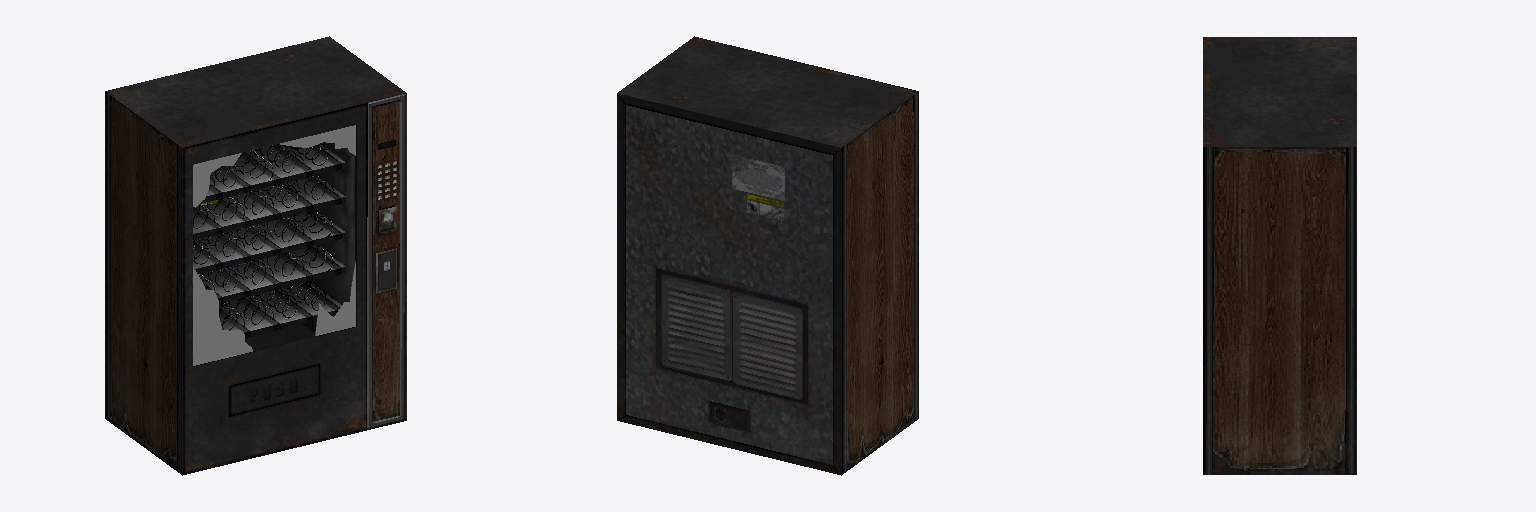
3 views of the same model, side by side, from view 1: azimuth 30°, elevation 25°; view 2: azimuth 150°, elevation 25°; view 3: azimuth 270°, elevation 25° (orthographic).
Parts seen in each view (by area): view 1: Object002, Object001, Electronics_01_VendingMachine_Broken_SK_Smesh; view 2: Object002; view 3: Object002.
Part boxes in pixels (left/top/right/bottom): Object002: left=105, top=36, right=406, bottom=475; Object001: left=193, top=125, right=355, bottom=365; Electronics_01_VendingMachine_Broken_SK_Smesh: left=193, top=143, right=333, bottom=330; Object002: left=617, top=36, right=918, bottom=475; Object002: left=1203, top=37, right=1356, bottom=474.
Size of the model in its own units: 75.04 by 105 by 44.83.
2 materials, 1 textured.